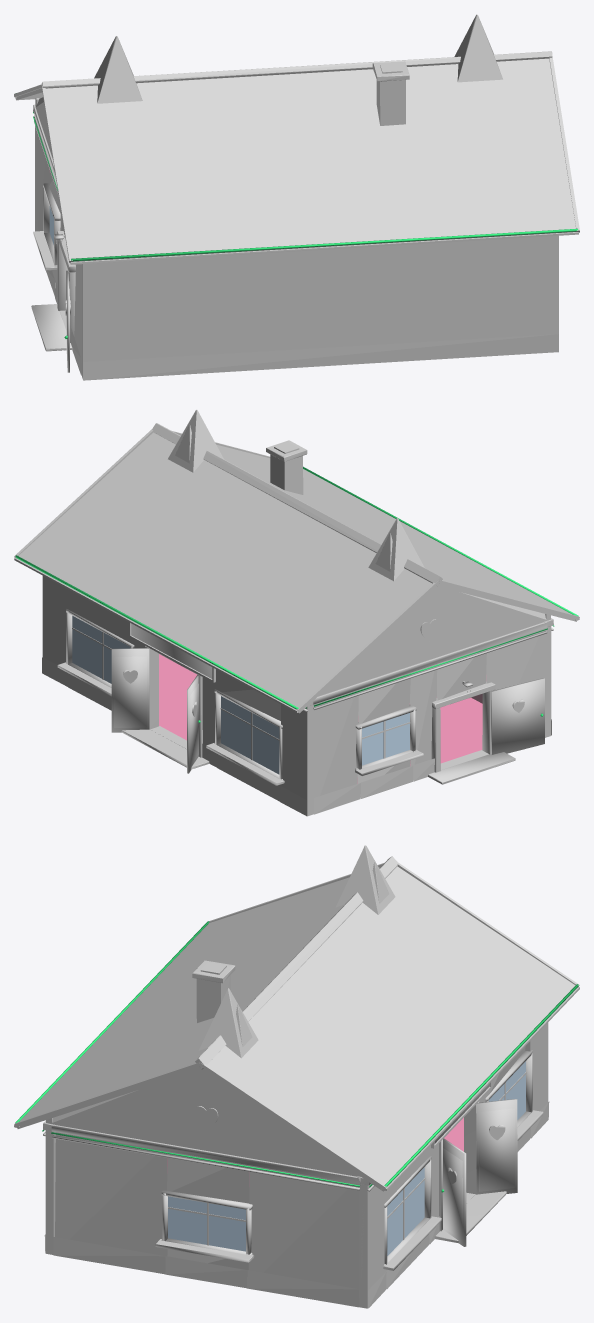
File: zon_bakery_lite_raw.glb
3 views of the same model, one above another, from view 1: azimuth 30°, elevation 25°; view 2: azimuth 150°, elevation 25°; view 3: azimuth 270°, elevation 25° (orthographic). The views are drawn at different scales.
Parts seen in each view (by area): view 1: SM_zon_bakery_lite_kit_bakery_xm1_z1_raw, SM_zon_bakery_lite_bakery_neon_xm1_z1_raw; view 2: SM_zon_bakery_lite_kit_bakery_xm1_z1_raw, SM_zon_bakery_lite_bakery_glass_xm1_z1_raw, SM_zon_bakery_lite_bakery_floor_xm1_z1_raw, SM_zon_bakery_lite_bakery_neon_xm1_z1_raw; view 3: SM_zon_bakery_lite_kit_bakery_xm1_z1_raw, SM_zon_bakery_lite_bakery_glass_xm1_z1_raw, SM_zon_bakery_lite_bakery_neon_xm1_z1_raw.
Part boxes in pixels (<box>): SM_zon_bakery_lite_kit_bakery_xm1_z1_raw: <box>14,14,579,380</box>; SM_zon_bakery_lite_bakery_neon_xm1_z1_raw: <box>33,112,578,338</box>; SM_zon_bakery_lite_kit_bakery_xm1_z1_raw: <box>14,409,579,816</box>; SM_zon_bakery_lite_bakery_glass_xm1_z1_raw: <box>72,616,409,774</box>; SM_zon_bakery_lite_bakery_floor_xm1_z1_raw: <box>159,654,482,763</box>; SM_zon_bakery_lite_bakery_neon_xm1_z1_raw: <box>15,466,578,723</box>; SM_zon_bakery_lite_kit_bakery_xm1_z1_raw: <box>14,845,579,1308</box>; SM_zon_bakery_lite_bakery_glass_xm1_z1_raw: <box>168,1061,525,1255</box>; SM_zon_bakery_lite_bakery_neon_xm1_z1_raw: <box>15,921,578,1192</box>.
Bounding box in the file's own units: 18.62 × 8.8 × 16.72.
